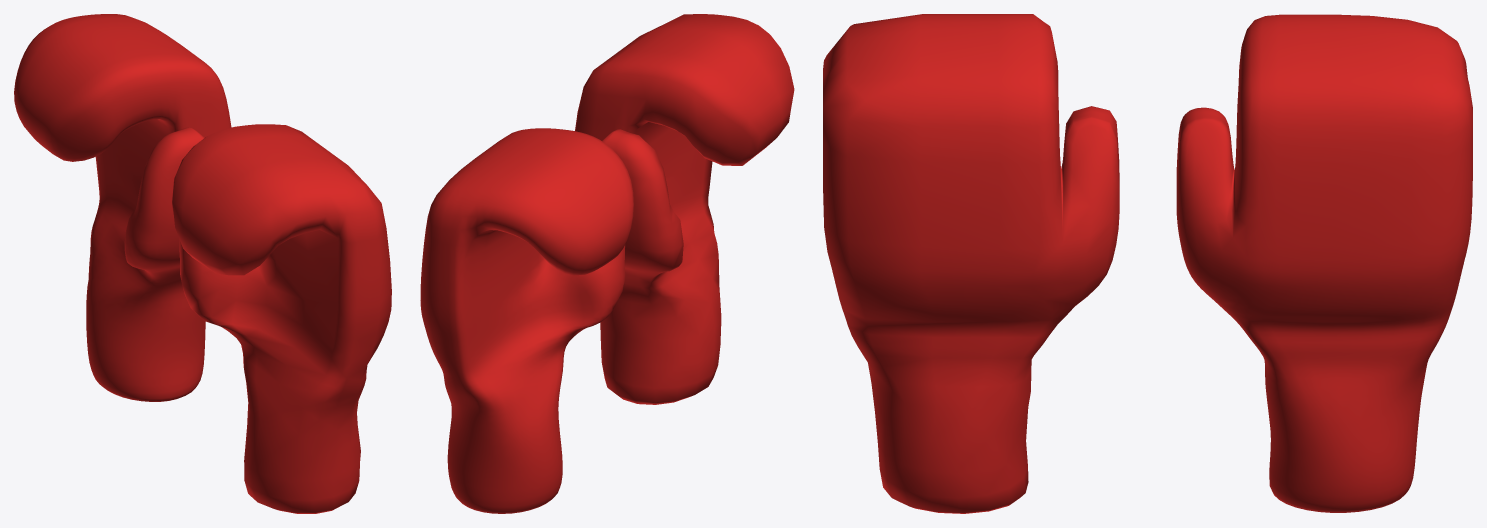
Rendered from bxglvsp.fbx.
3 views of the same model, side by side, from view 1: azimuth 30°, elevation 25°; view 2: azimuth 150°, elevation 25°; view 3: azimuth 270°, elevation 25° (orthographic). The views are drawn at different scales.
Visible parts, largest first — view 1: Cube, Cube.015; view 2: Cube.015, Cube; view 3: Cube, Cube.015.
Boxes of the visible parts, left/top/right/bottom form: Cube: left=172, top=124, right=391, bottom=513; Cube.015: left=14, top=14, right=231, bottom=401; Cube.015: left=420, top=128, right=633, bottom=513; Cube: left=575, top=14, right=794, bottom=404; Cube: left=823, top=14, right=1119, bottom=513; Cube.015: left=1176, top=14, right=1472, bottom=512.
Bounding box in the file's own units: 4.36 × 8.65 × 11.55.
